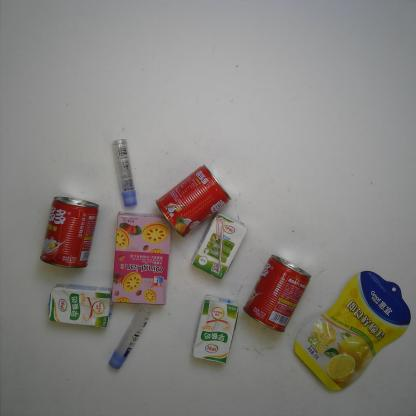Canned Food: (242, 254, 310, 334), (155, 164, 231, 235), (40, 196, 99, 268)
Dessert: (109, 212, 170, 303)
Dried Fruit: (292, 269, 411, 393)
Milk: (190, 212, 248, 279), (190, 294, 237, 364), (45, 282, 113, 329)
Stationery: (106, 306, 152, 369), (111, 138, 137, 207)
